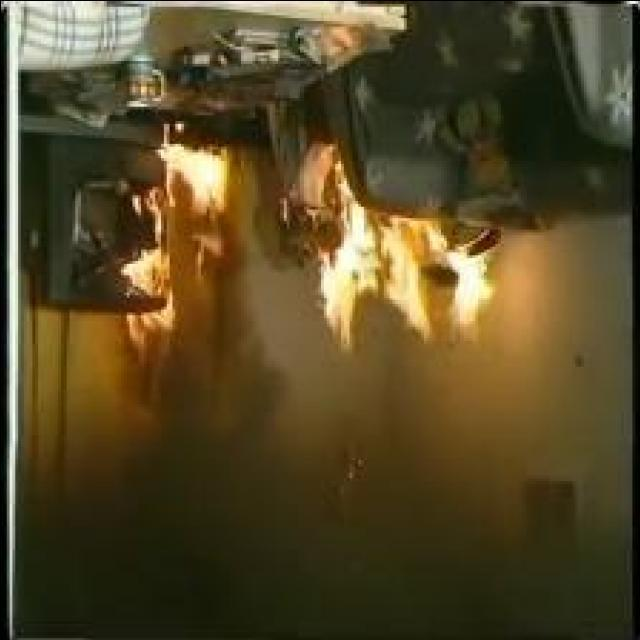Fire: (313, 157, 447, 349), (156, 142, 228, 284), (117, 185, 172, 348), (442, 250, 494, 338)
